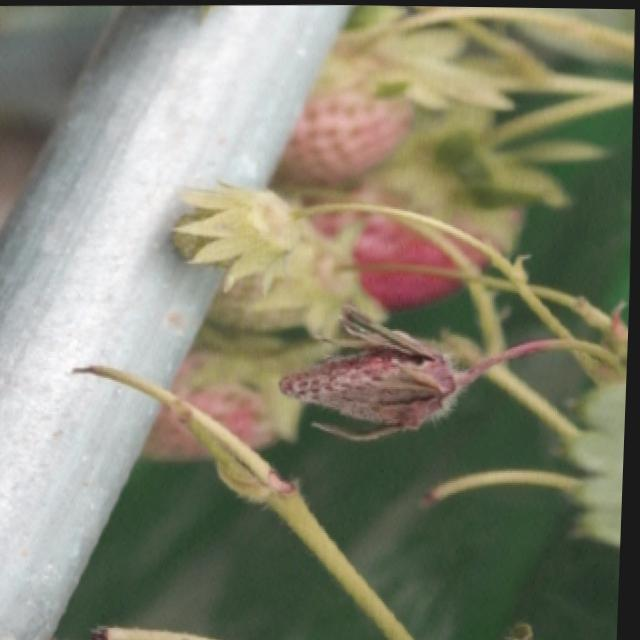Gray Mold: (279, 304, 493, 440)
